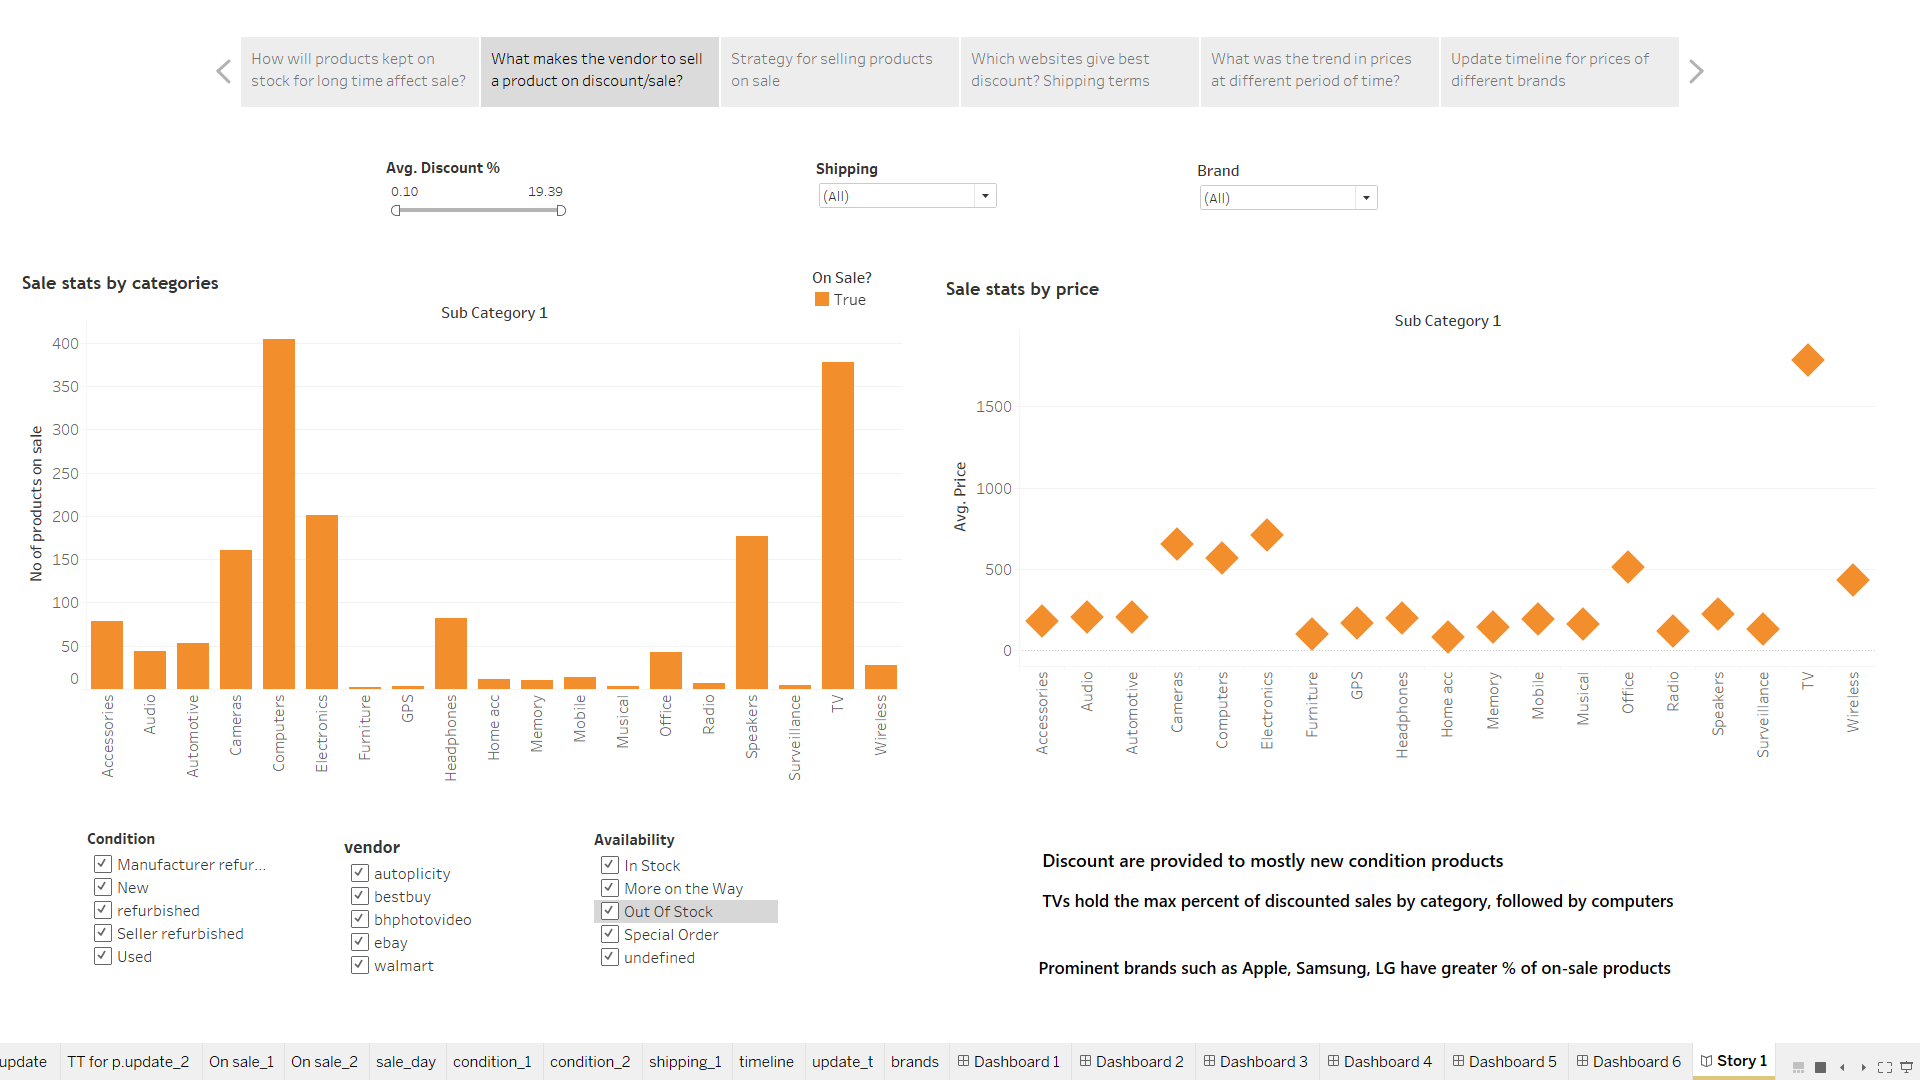

The dashboard page shown, as its layout file describes it:
{"tool":"tableau","page":{"name":"Dashboard 2","canvas":[1000,1000],"units":"permille","ordinal":1},"visuals":[{"type":"filter","title":"On sale_1","param":"[federated.1vl33a51myhwji18jspvm1r1us8n].[avg:Discount %:qk]","box":[198.6,32.5,96.6,75.5]},{"type":"filter","title":"On sale_1","param":"[federated.1vl33a51myhwji18jspvm1r1us8n].[none:Shipping:nk]","box":[424.3,33.7,96.6,61.6]},{"type":"filter","title":"On sale_1","param":"[federated.1vl33a51myhwji18jspvm1r1us8n].[none:brand:nk]","box":[624.6,36,96.6,61.6]},{"type":"legend","title":"On sale_1","param":"[federated.1vl33a51myhwji18jspvm1r1us8n].[none:On Sale?:nk]","box":[422.4,154.5,84.5,74.3]},{"type":"worksheet","title":"On sale_1","mark":"Automatic","rows":["ProductData_cleaned_1.csv_88F6F32D96684C72BF887400D1DB8C06"],"cols":["sub category 1"],"box":[5.4,155.6,464.1,573.8]},{"type":"worksheet","title":"On sale_2","mark":"Shape","rows":["prices_amountmax"],"cols":["sub category 1"],"box":[490.7,161.4,490.7,542.4]},{"type":"text","box":[541.3,768.9,295.7,76.7]},{"type":"filter","title":"On sale_1","param":"[federated.1vl33a51myhwji18jspvm1r1us8n].[none:Condition:nk]","box":[41.6,772.4,96.6,166.1]},{"type":"filter","title":"On sale_2","param":"[federated.1vl33a51myhwji18jspvm1r1us8n].[none:Availability:nk]","box":[307.8,773.5,96.6,166.1]},{"type":"filter","title":"On sale_1","param":"[federated.1vl33a51myhwji18jspvm1r1us8n].[none:prices_sourceurls:nk]","box":[176.2,779.3,96.6,195.1]},{"type":"text","box":[541.3,815.3,367.5,74.3]},{"type":"text","box":[539.5,899,388.7,53.4]}]}

Visuals, with their boxes on the dashboard's canvas, which has no fixed pixel size, in thousandths of its width and height (x1, y1, x2, y2). These are canvas units, not pixel positions in the 1920x1080 screenshot, which may show the page scaled, cropped or inside an application window:
"On sale_1" filter: 199:32:295:108
"On sale_1" filter: 424:34:521:95
"On sale_1" filter: 625:36:721:98
"On sale_1" legend: 422:154:507:229
"On sale_1" worksheet: 5:156:470:729
"On sale_2" worksheet (Shape marks): 491:161:981:704
text: 541:769:837:846
"On sale_1" filter: 42:772:138:938
"On sale_2" filter: 308:774:404:940
"On sale_1" filter: 176:779:273:974
text: 541:815:909:890
text: 540:899:928:952
